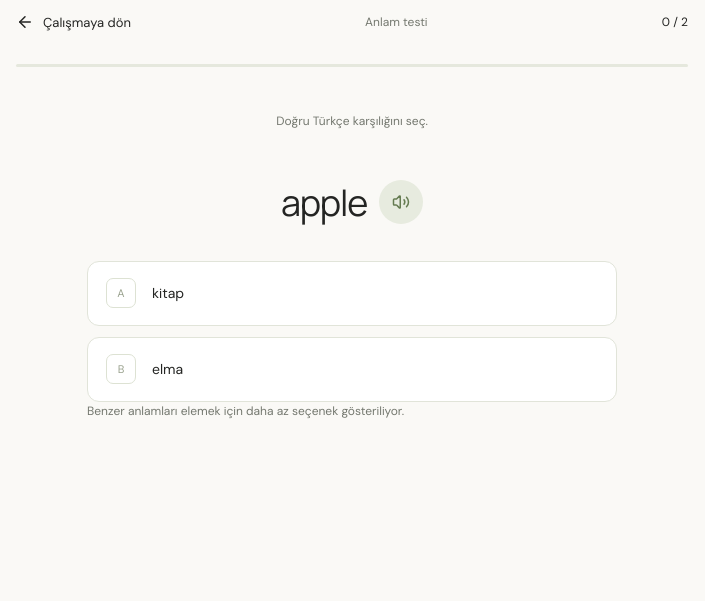
it: study flows › quiz saves once and waits for Continue before the next question
Click the button "B elma" at (168, 369), box x1=87 y1=337 x2=617 y2=402
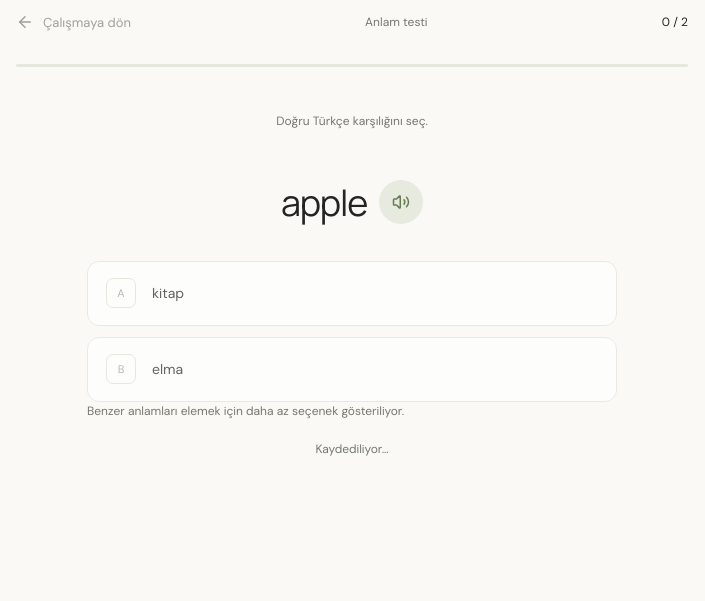
Click the button "B elma" at (168, 369), box x1=87 y1=337 x2=617 y2=402
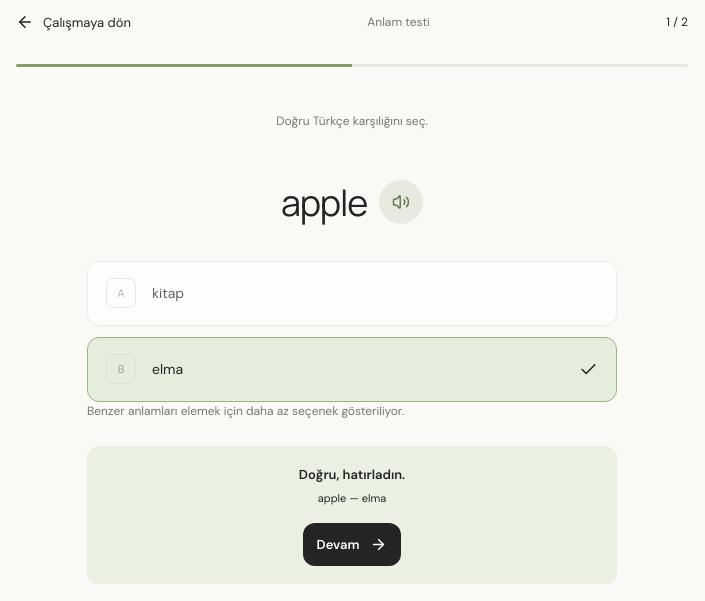
expect the text "Doğru, hatırladın." is shown: met, box x1=299 y1=466 x2=405 y2=483
Click the button "Devam" at (352, 544), box x1=303 y1=523 x2=402 y2=566
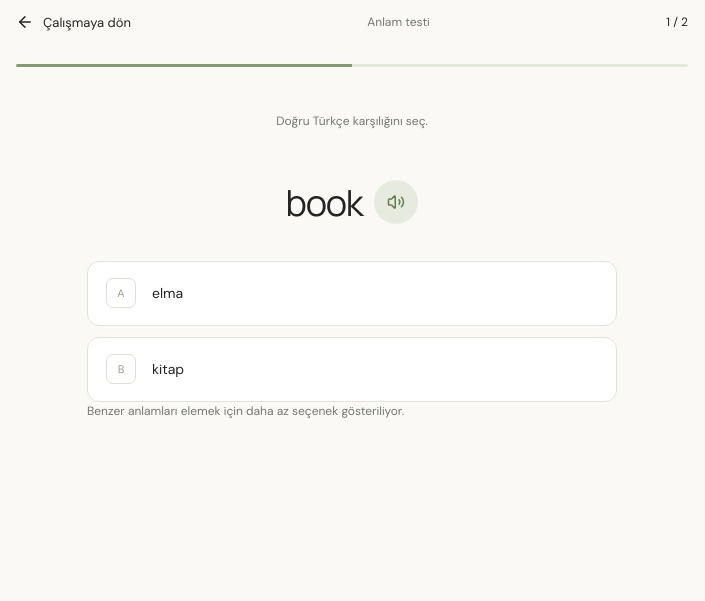
expect the text "book" is shown: met, box x1=286 y1=178 x2=362 y2=227
